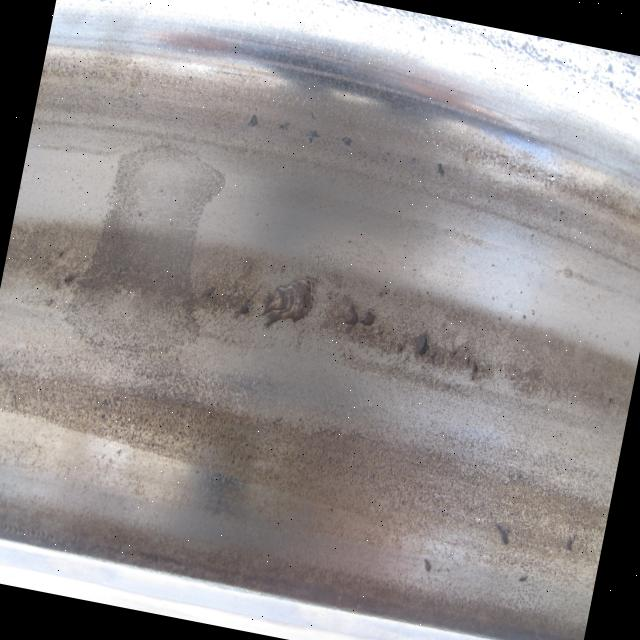Blue hole: (263, 274, 320, 339), (495, 526, 512, 546), (566, 537, 576, 552), (519, 574, 530, 584), (424, 561, 432, 572)
Peeling: (373, 321, 494, 377), (345, 304, 378, 332), (202, 285, 219, 302), (240, 300, 252, 319)
